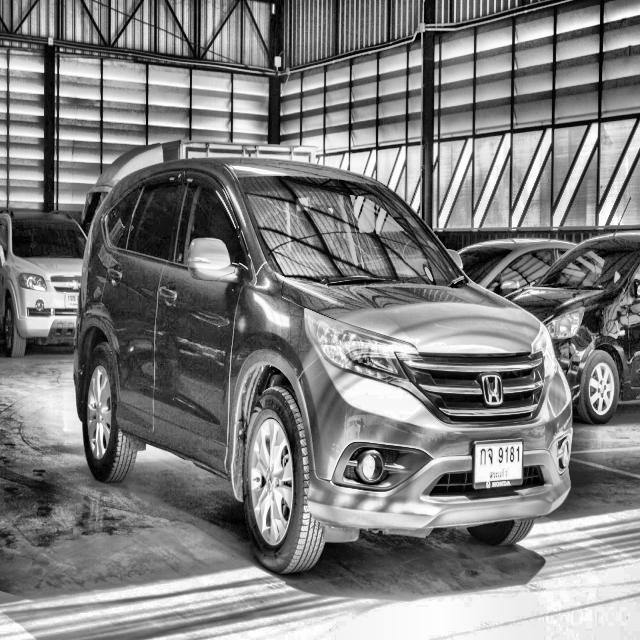license-plate: (474, 438, 526, 491)
